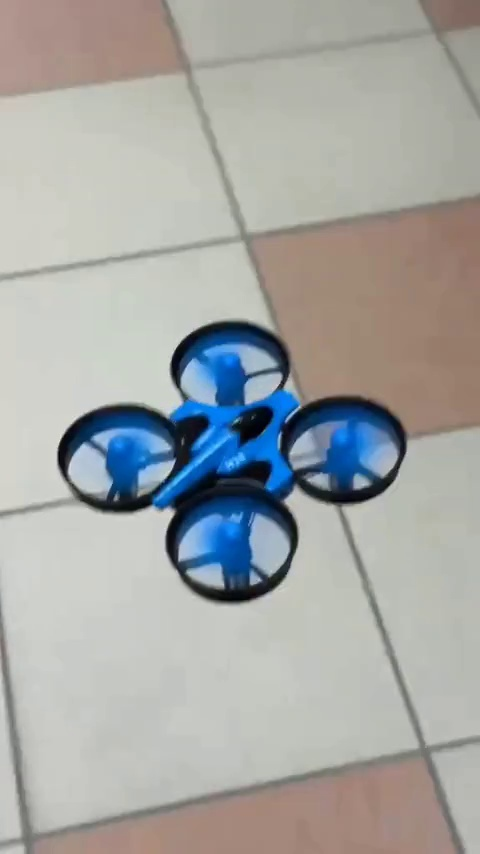drone: (48, 321, 403, 605)
